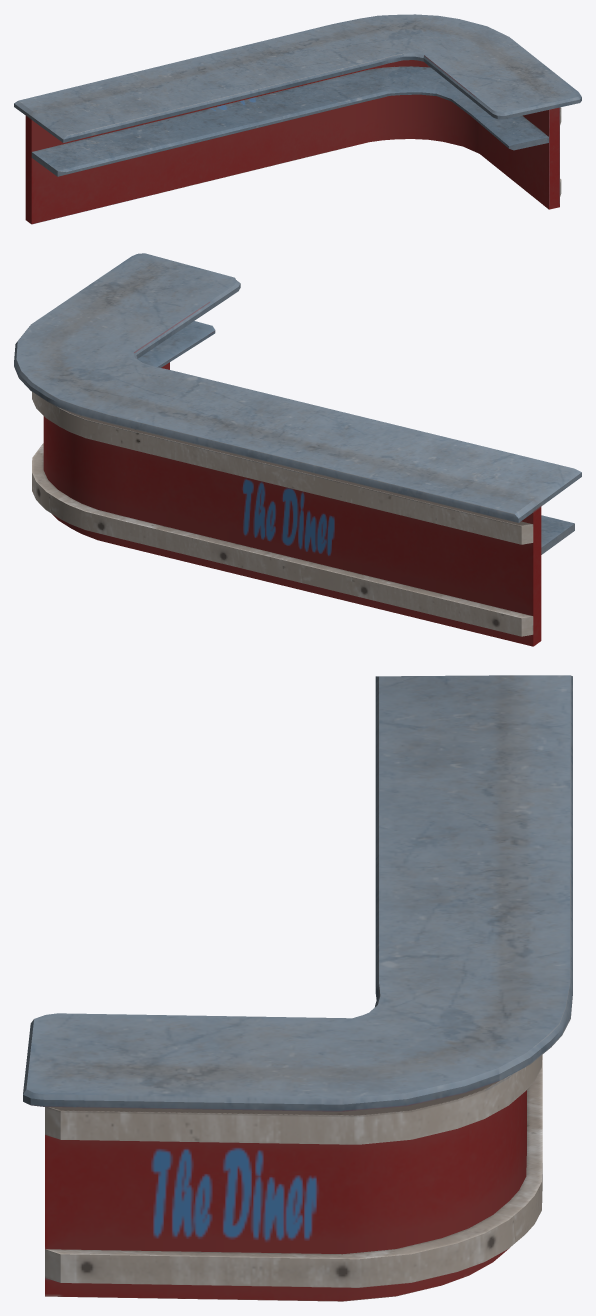
File: ARC0810083.fbx
3 renders of one model, top to bottom at view 1: azimuth 30°, elevation 25°; view 2: azimuth 150°, elevation 25°; view 3: azimuth 270°, elevation 25°, orthographic. The views are drawn at different scales.
Parts seen in each view (by area): view 1: smARC0810083; view 2: smARC0810083; view 3: smARC0810083.
Boxes of the visible parts, x1,y1,x2,y2 form: smARC0810083: (14, 14, 581, 224); smARC0810083: (14, 253, 581, 646); smARC0810083: (23, 675, 572, 1301).
Bounding box in the file's own units: 548 × 132 × 297.
1 material, 1 textured.
